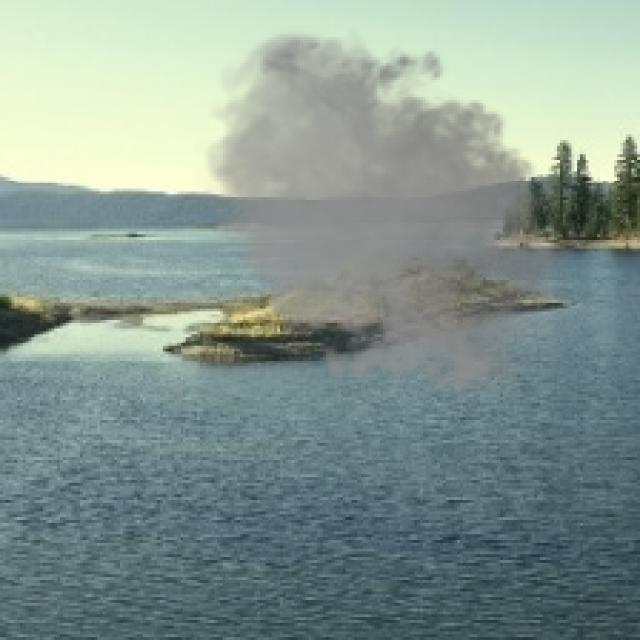smoke: (194, 26, 586, 406)
